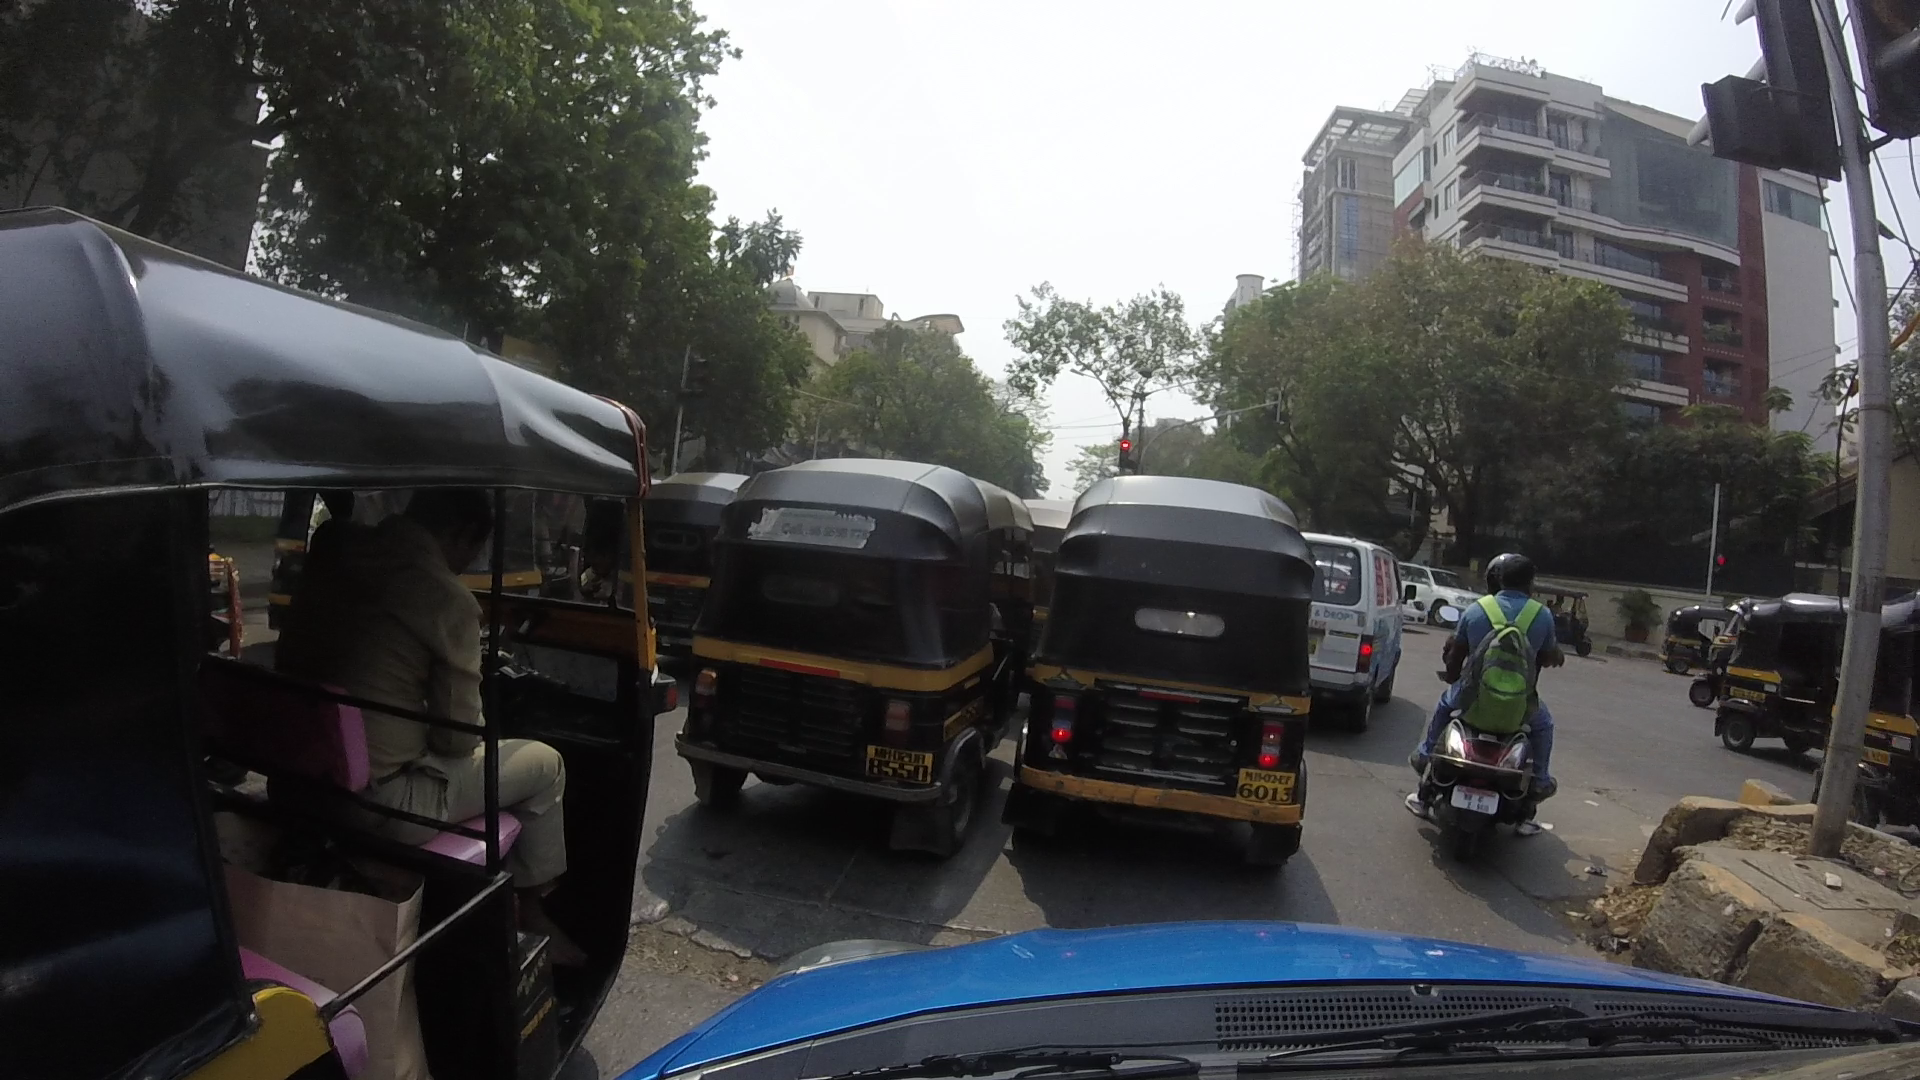bike/scooter: (1437, 545, 1563, 851)
car: (1287, 520, 1396, 704)
rickshaw: (25, 219, 634, 1080), (708, 454, 1019, 839), (1040, 469, 1313, 857), (644, 451, 766, 683), (1713, 583, 1846, 742)
